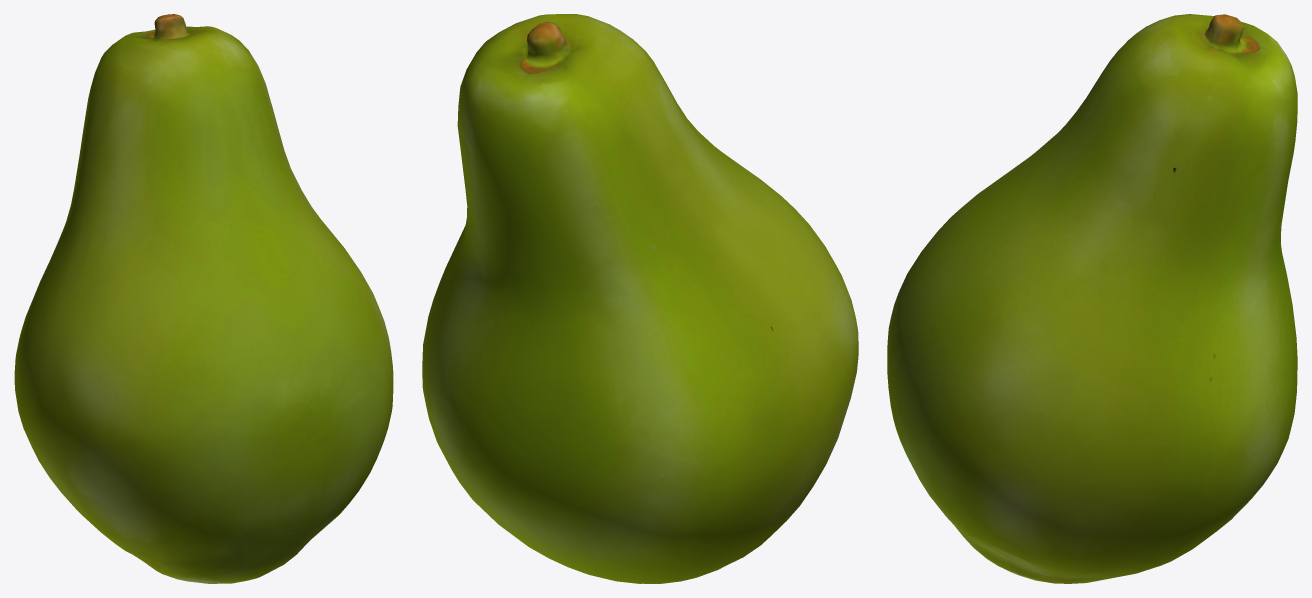
File: 016_pear.obj
3 renders of one model, left to right at view 1: azimuth 30°, elevation 25°; view 2: azimuth 150°, elevation 25°; view 3: azimuth 270°, elevation 25°, orthographic. The views are drawn at different scales.
Parts seen in each view (by area): view 1: 016_pear; view 2: 016_pear; view 3: 016_pear.
Part boxes in pixels (x1,y1,x2,y2): 016_pear: (14, 14, 393, 583); 016_pear: (422, 14, 858, 583); 016_pear: (887, 14, 1297, 583).
Size of the model in its own units: 0.0665 by 0.1005 by 0.0656.
1 material, 1 textured.
